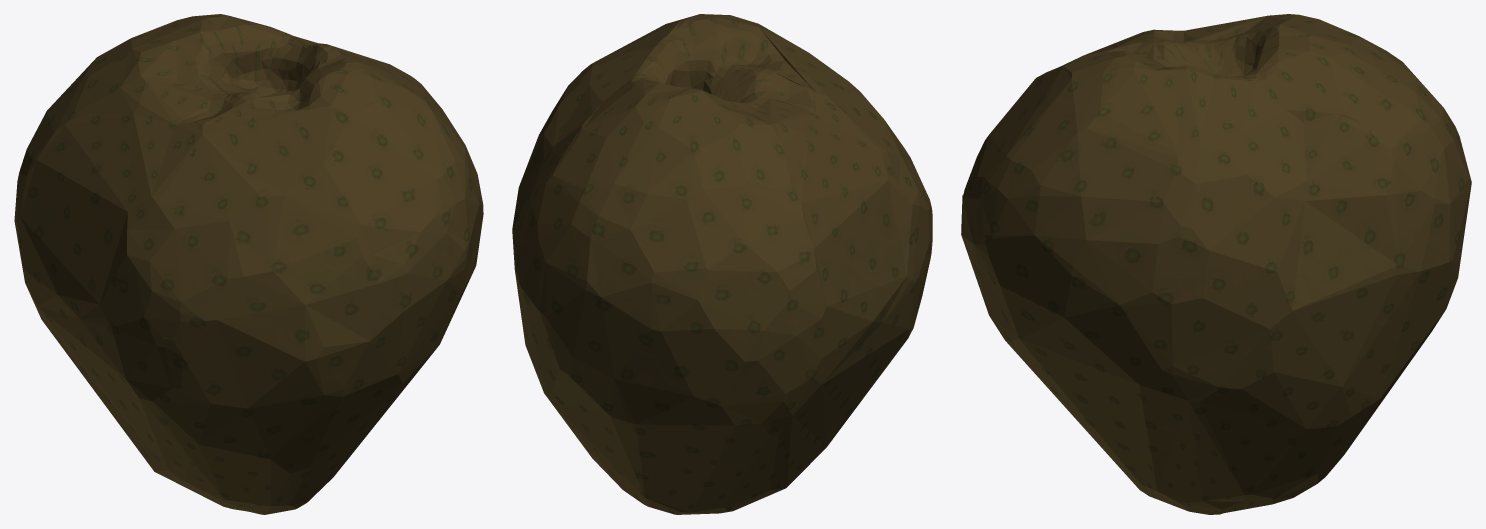
3 views of the same model, side by side, from view 1: azimuth 30°, elevation 25°; view 2: azimuth 150°, elevation 25°; view 3: azimuth 270°, elevation 25° (orthographic). The views are drawn at different scales.
Parts seen in each view (by area): view 1: _001_Meshed; view 2: _001_Meshed; view 3: _001_Meshed.
Part boxes in pixels (<box>): _001_Meshed: <box>14,14,483,514</box>; _001_Meshed: <box>512,14,932,514</box>; _001_Meshed: <box>961,14,1471,514</box>.
Size of the model in its own units: 0.0955 by 0.1113 by 0.1115.
1 material, 1 textured.
